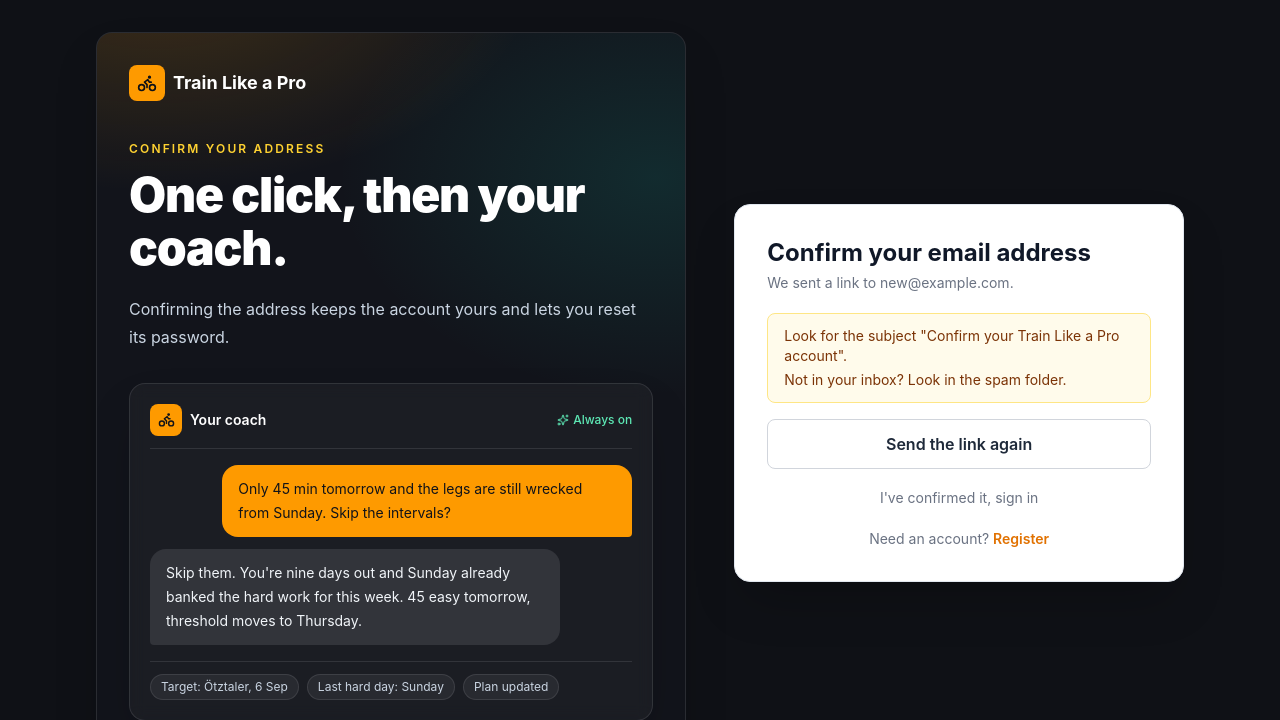
Test case: LoginPage › sends the link again from the inbox state
Click the button "Send the link again": (959, 444) [767,419,1151,469]
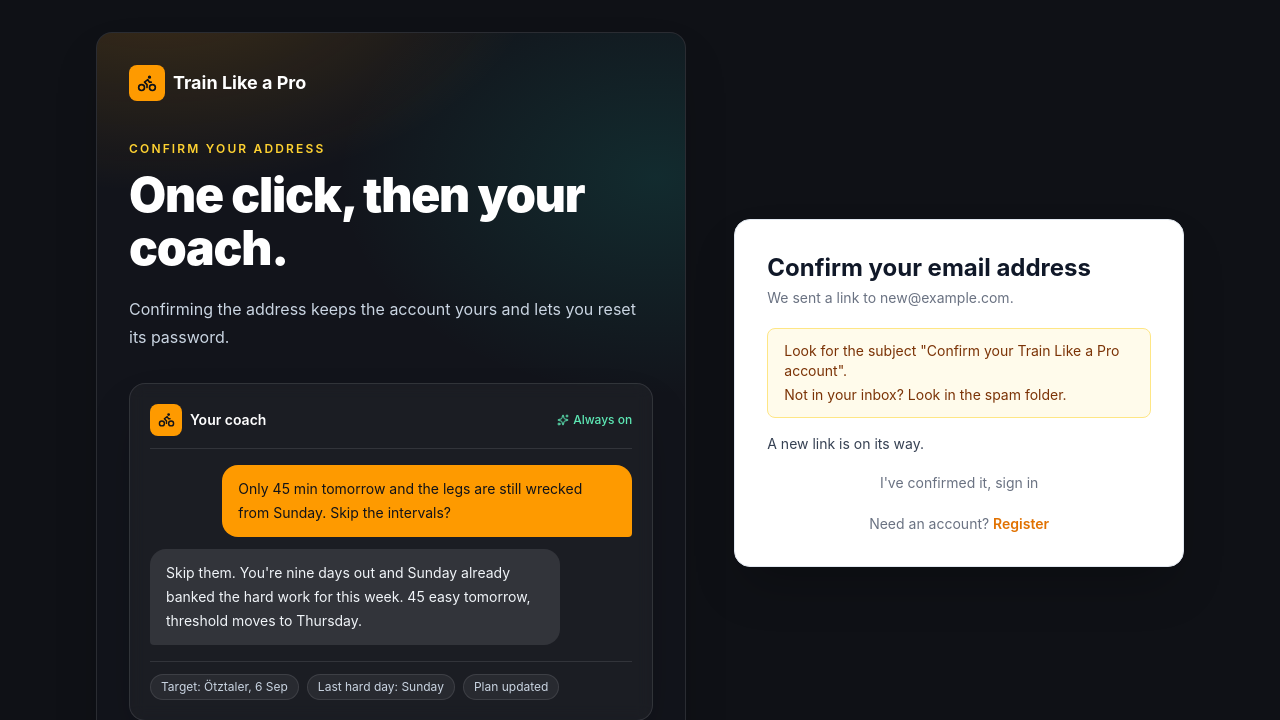
Expected: the text "A new link is on its way." is shown, [767,435,924,452]
